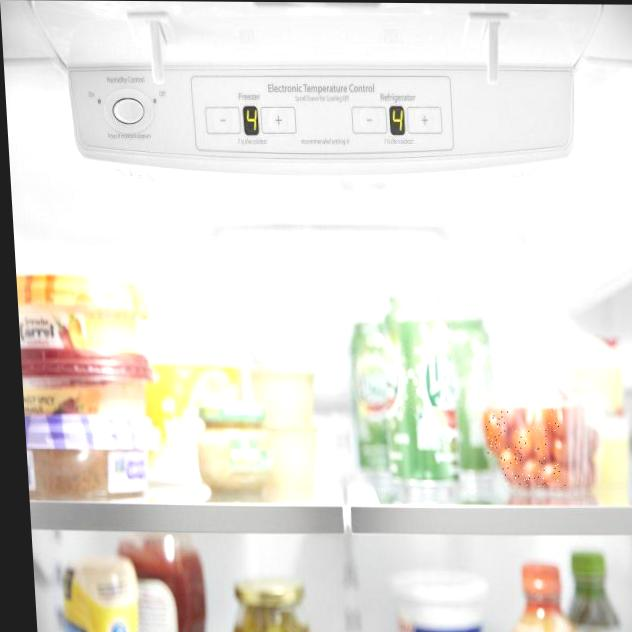tomato: (485, 409, 511, 453), (500, 450, 525, 488), (532, 423, 553, 460), (522, 460, 546, 489), (544, 460, 569, 486), (513, 426, 532, 456), (547, 406, 565, 436)
